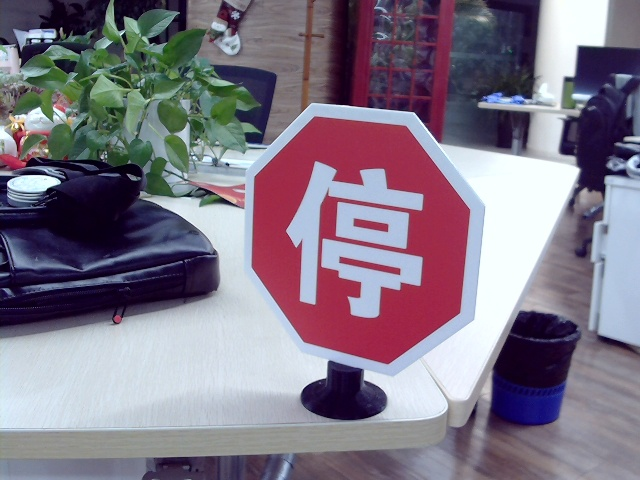stop: (285, 158, 425, 316)
